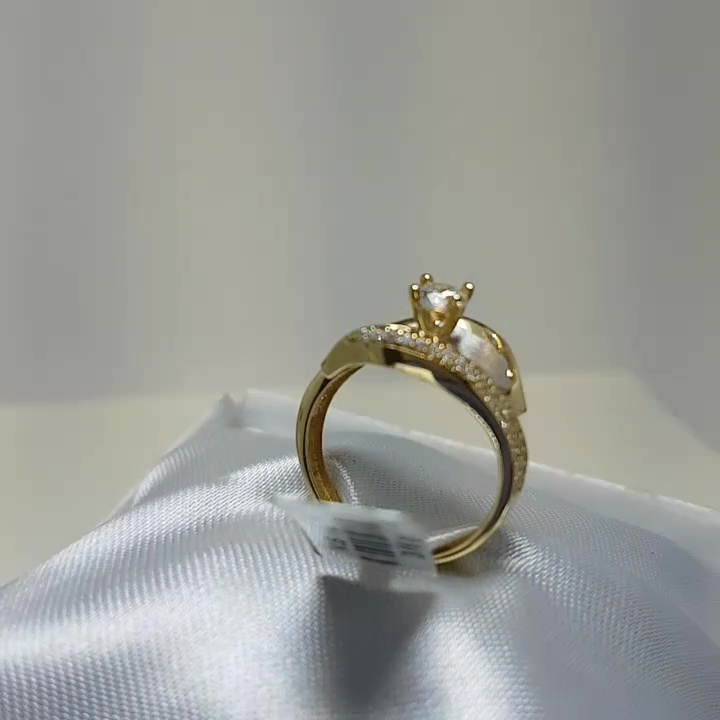Ring 6: (257, 257, 559, 584)
